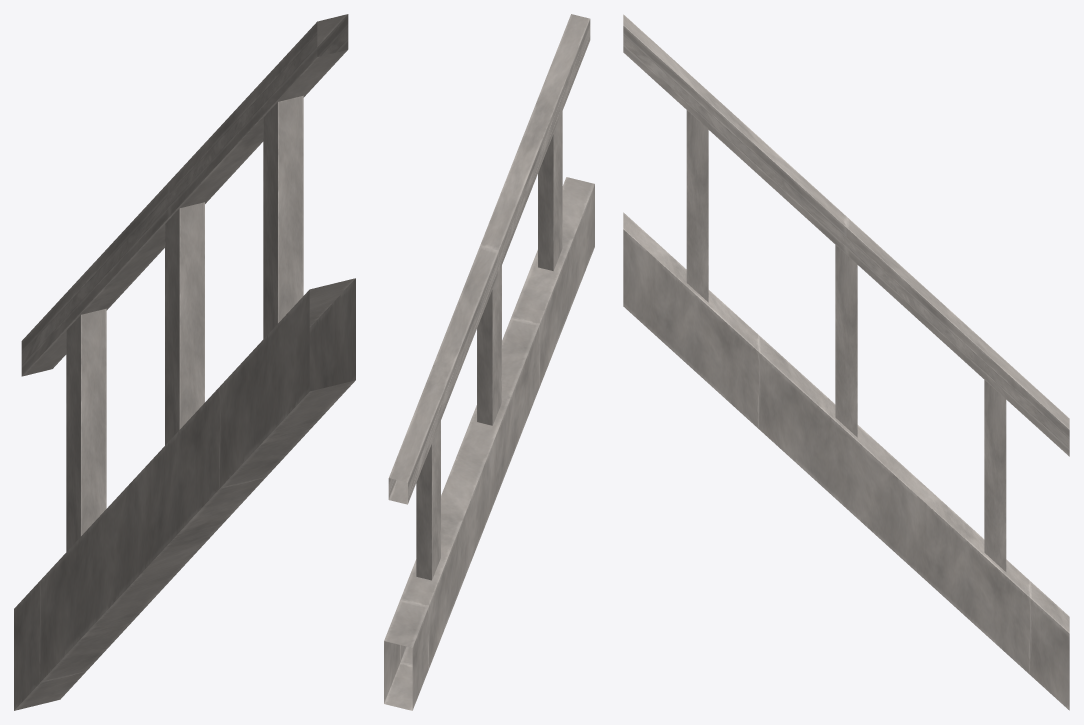
File: Stair_3H_Rail.fbx
3 views of the same model, side by side, from view 1: azimuth 30°, elevation 25°; view 2: azimuth 150°, elevation 25°; view 3: azimuth 270°, elevation 25° (orthographic). The views are drawn at different scales.
Visible parts, largest first — view 1: Stair_3H_Rail; view 2: Stair_3H_Rail; view 3: Stair_3H_Rail.
Part boxes in pixels (x1,y1,x2,y2): Stair_3H_Rail: (14, 14, 355, 710); Stair_3H_Rail: (384, 14, 594, 710); Stair_3H_Rail: (623, 14, 1069, 710).
Bounding box in the file's own units: 0.2712 × 3 × 5.06.
